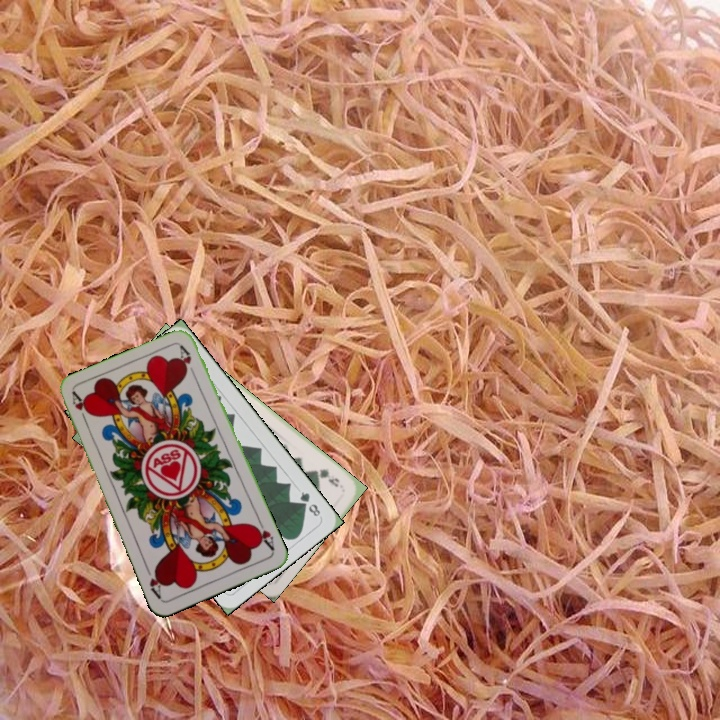G8: (296, 487, 323, 519)
G9: (311, 465, 342, 490)
HA: (250, 515, 277, 554), (68, 388, 93, 428)
